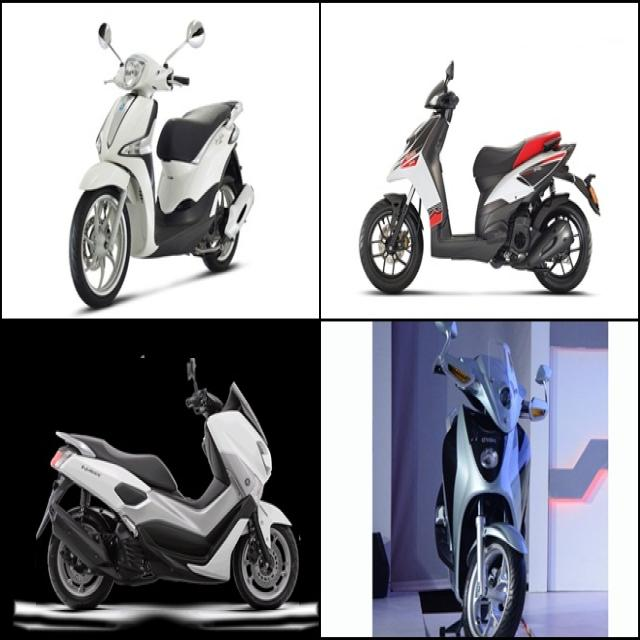motorcycle: (36, 358, 299, 610), (359, 62, 599, 293), (70, 16, 254, 307), (434, 322, 554, 638)
